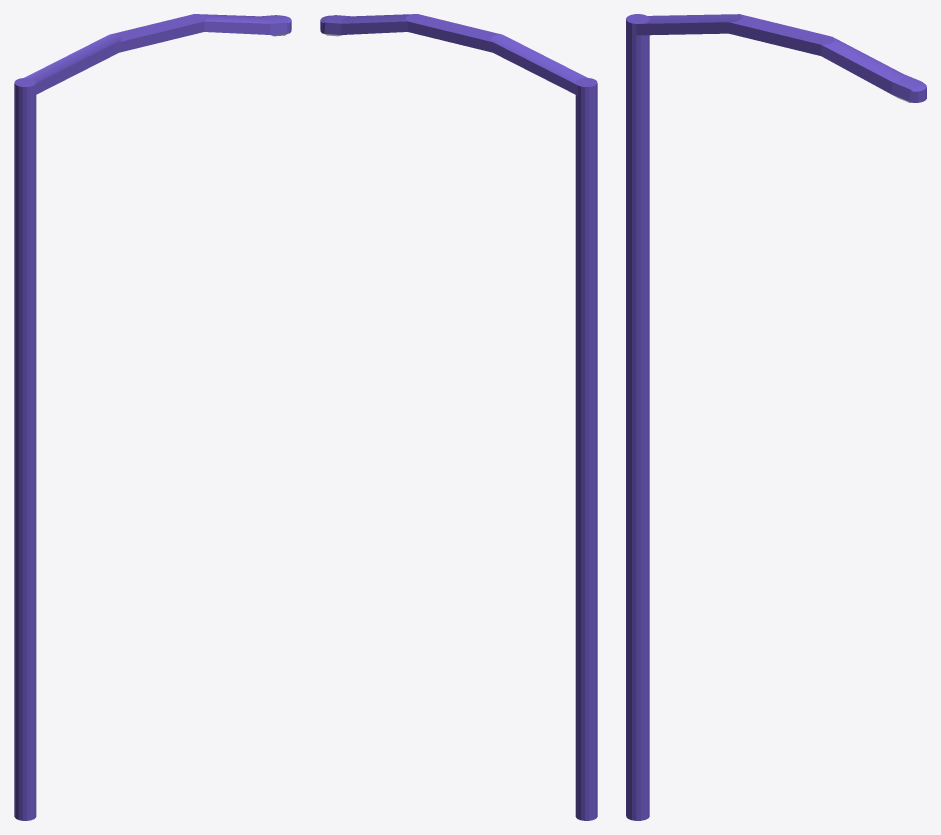
File: lampPost.fbx
3 renders of one model, left to right at view 1: azimuth 30°, elevation 25°; view 2: azimuth 150°, elevation 25°; view 3: azimuth 330°, elevation 25°, orthographic. The views are drawn at different scales.
Visible parts, largest first — view 1: Cylinder; view 2: Cylinder; view 3: Cylinder.
Boxes of the visible parts, bbox=[...] form: Cylinder: bbox=[14, 14, 291, 820]; Cylinder: bbox=[320, 14, 597, 820]; Cylinder: bbox=[626, 14, 926, 820].
Size of the model in its own units: 157 by 413 by 12.29.
